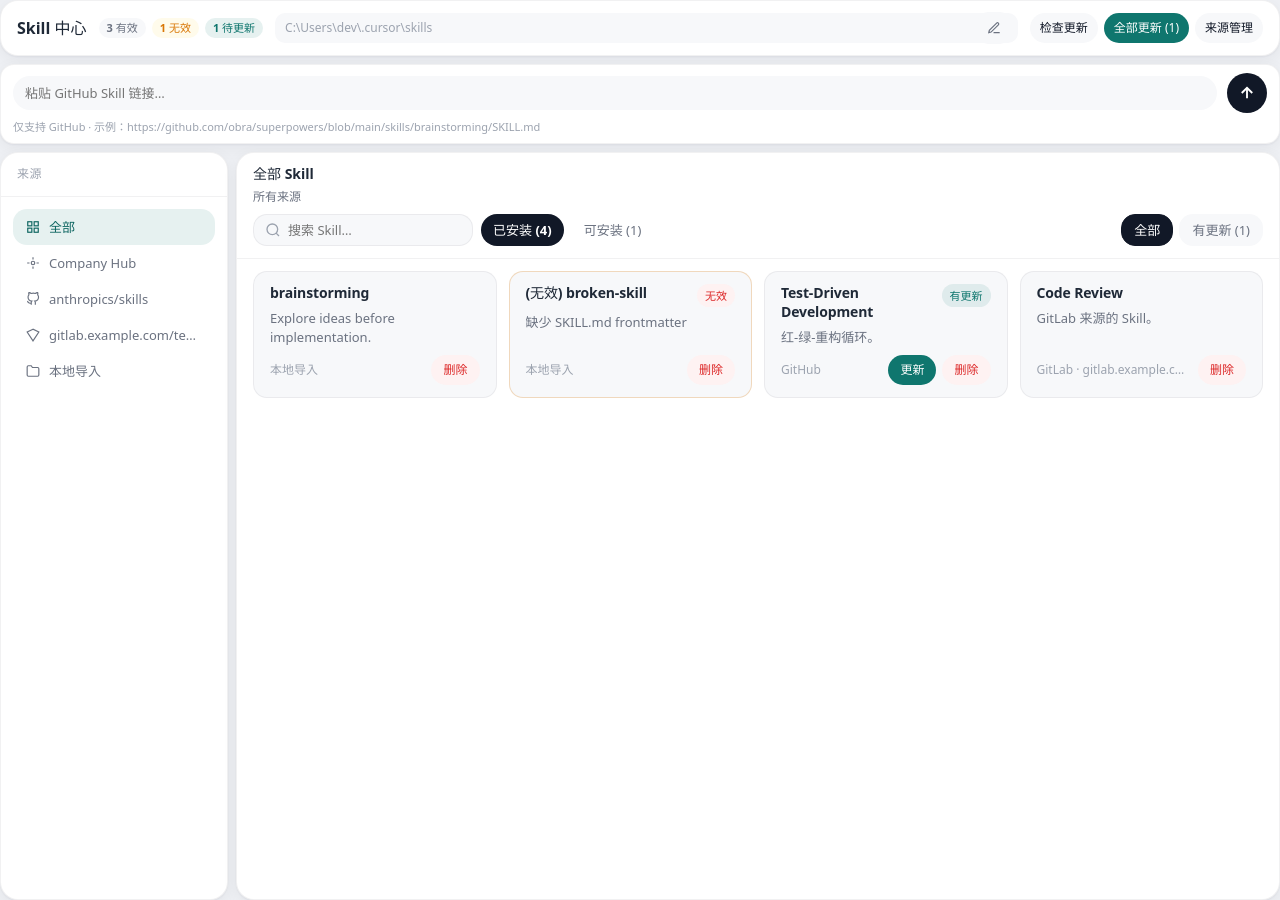
Test: SkillHubPage › hides upload button when 全部 is selected
This screenshot has width=1280, height=900.
What coordinates should you click on to do the following:
click the list item "Company Hub"
I would click on:
 (81, 263)
Its box is [26, 254, 136, 272].
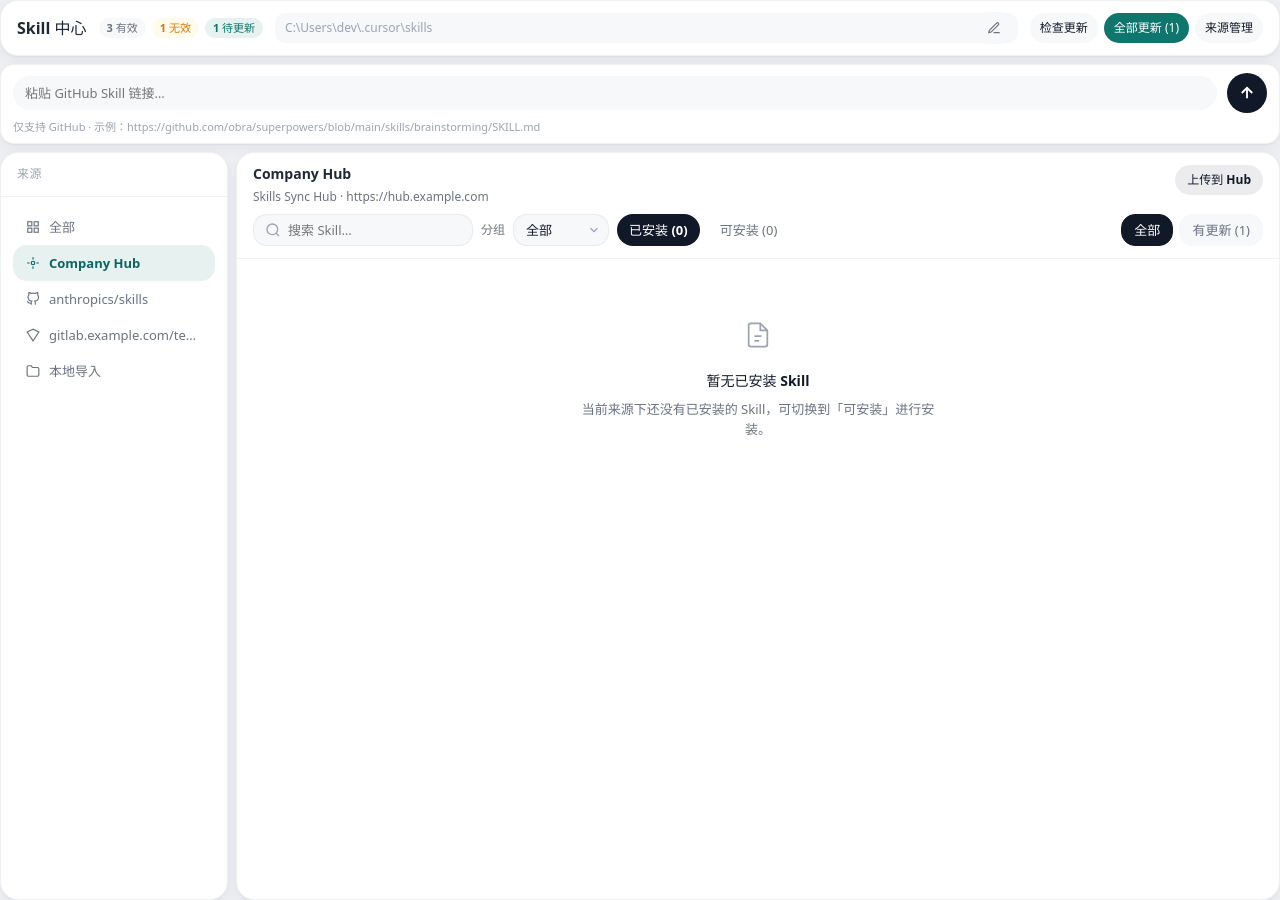
Expected: the button "上传到 Hub" is shown, [1175, 165, 1263, 195]
What coordinates should you click on to do the following:
click the list item "全部"
I would click on:
 (50, 226)
Its box is [26, 218, 75, 236].
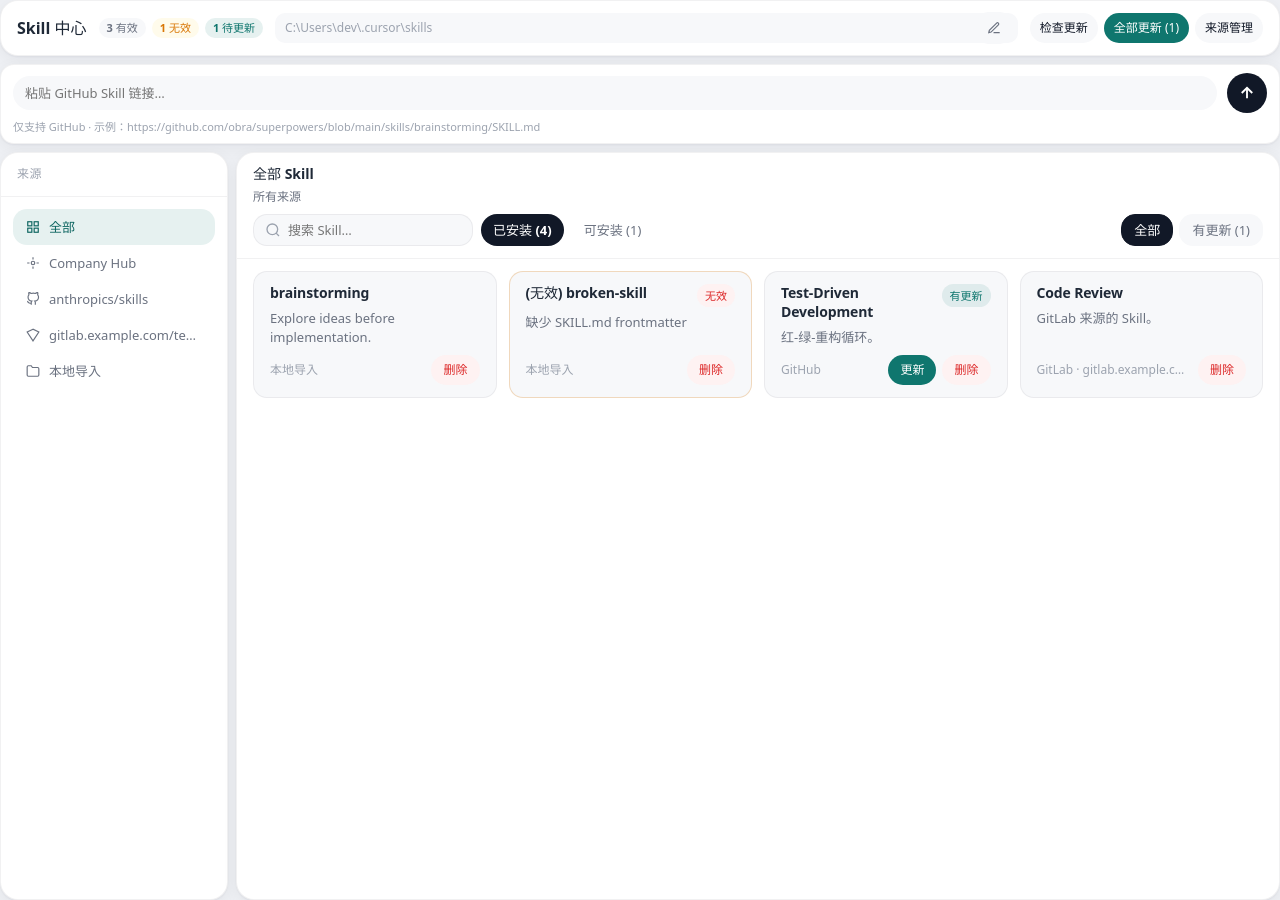
Expected: the button "上传到 Hub" is gone
